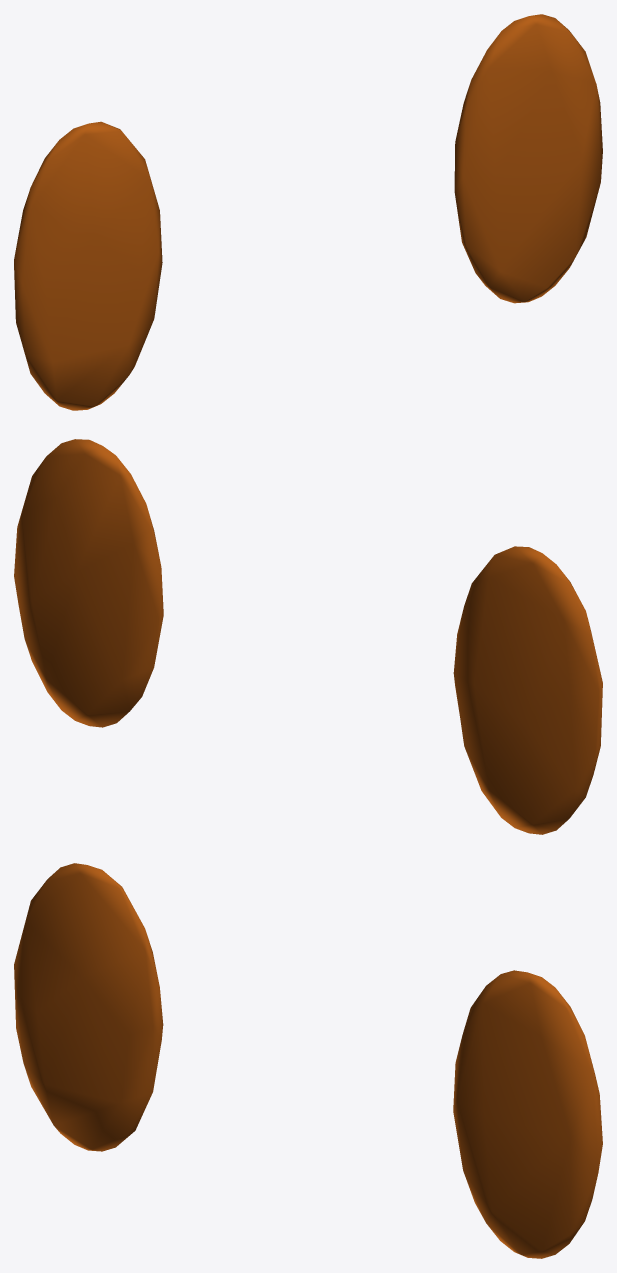
The model's file is loot-bag-nostril.fbx.
The picture shows the model from 3 angles, top to bottom: view 1: azimuth 30°, elevation 25°; view 2: azimuth 150°, elevation 25°; view 3: azimuth 330°, elevation 25°; orthographic projection.
Visible parts, largest first — view 1: Nostril; view 2: Nostril; view 3: Nostril.
Boxes of the visible parts, x1,y1,x2,y2 form: Nostril: (14, 14, 602, 410); Nostril: (14, 439, 602, 834); Nostril: (14, 863, 602, 1258).
Size of the model in its own units: 28.68 by 13.32 by 1.11.
